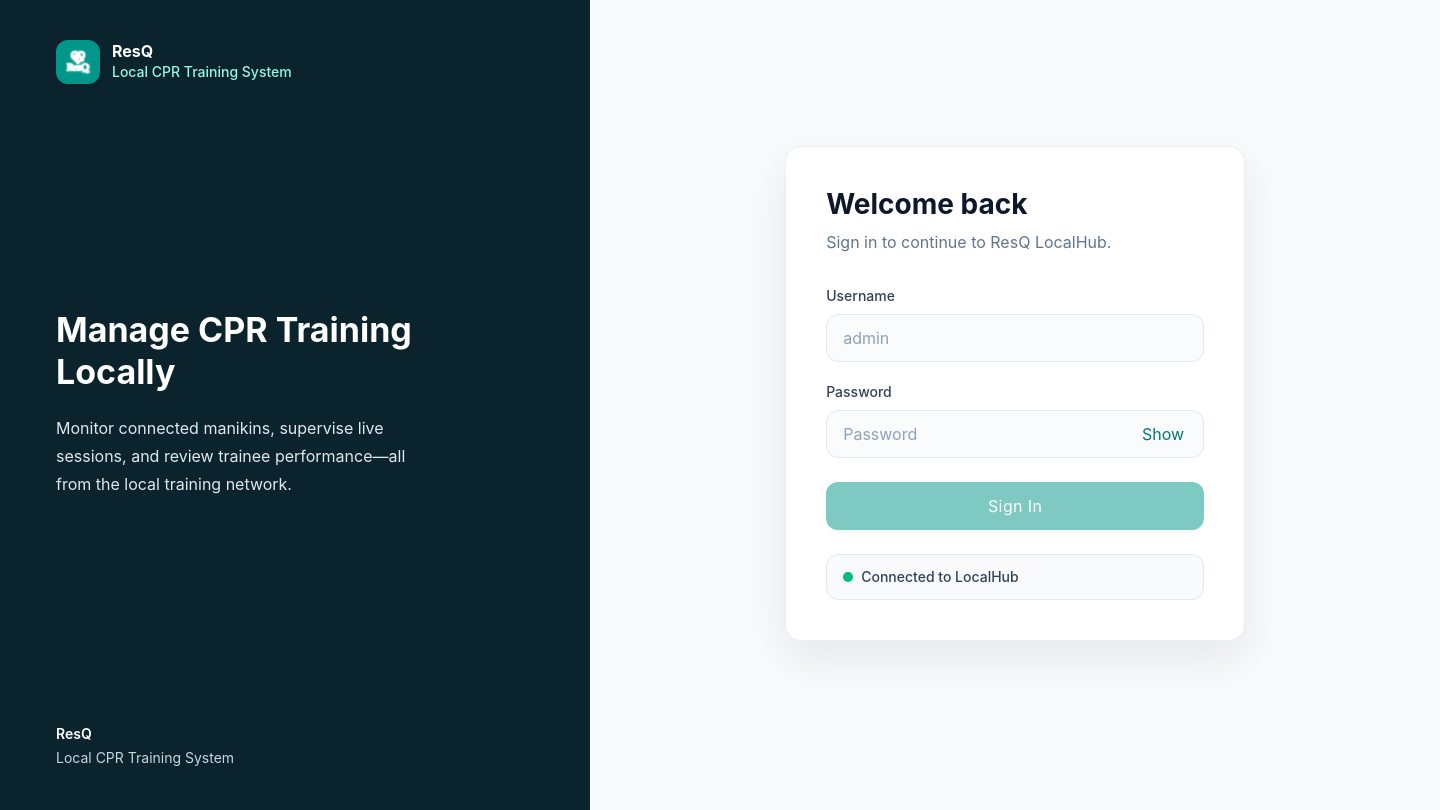
Test case: V2 LoginPage › shows a Caps Lock warning while the password field is focused
The width and height of the screenshot is (1440, 810).
Click the password field labelled "Password": (1015, 434) [826,410,1204,458]
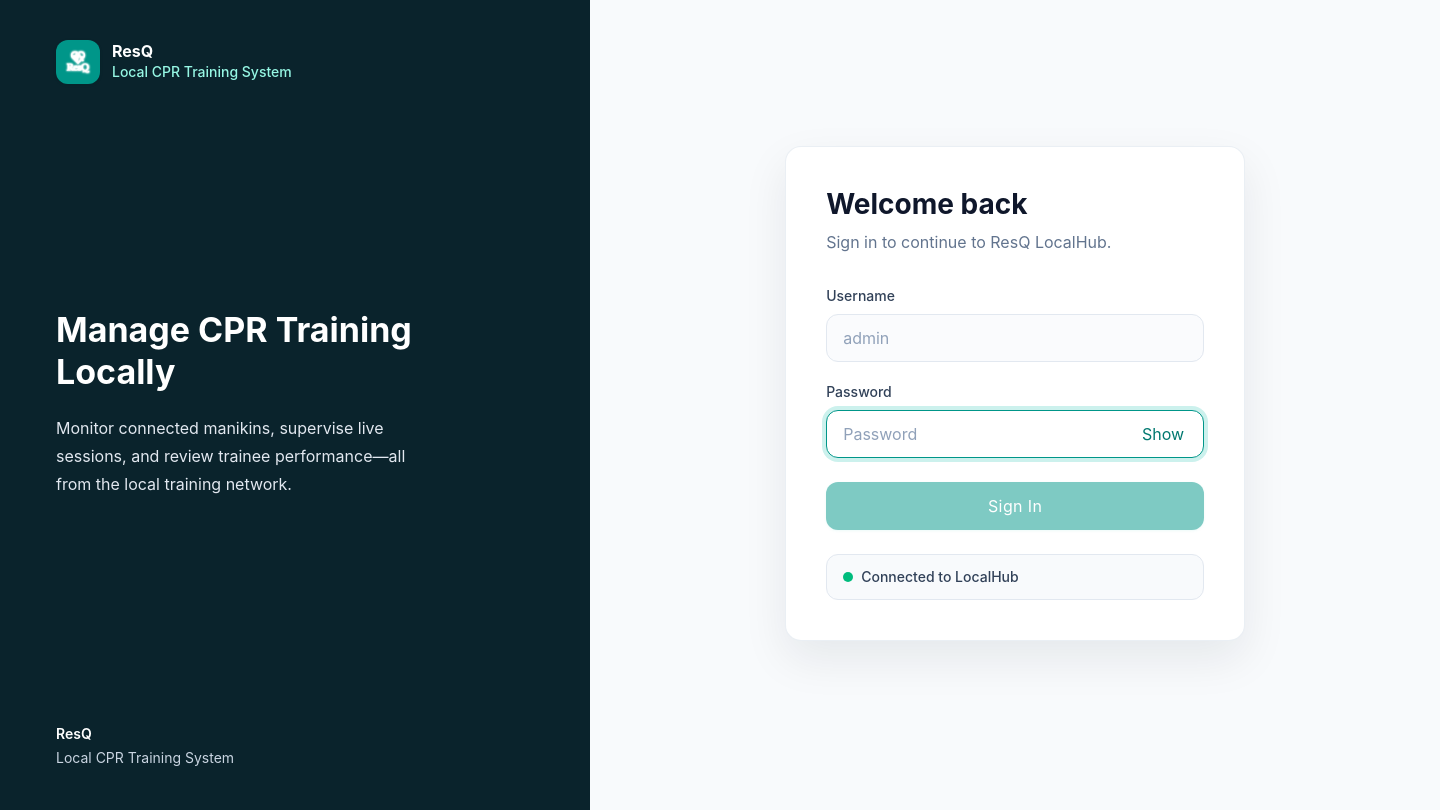
Press A in the password field labelled "Password", box [826,410,1204,458]
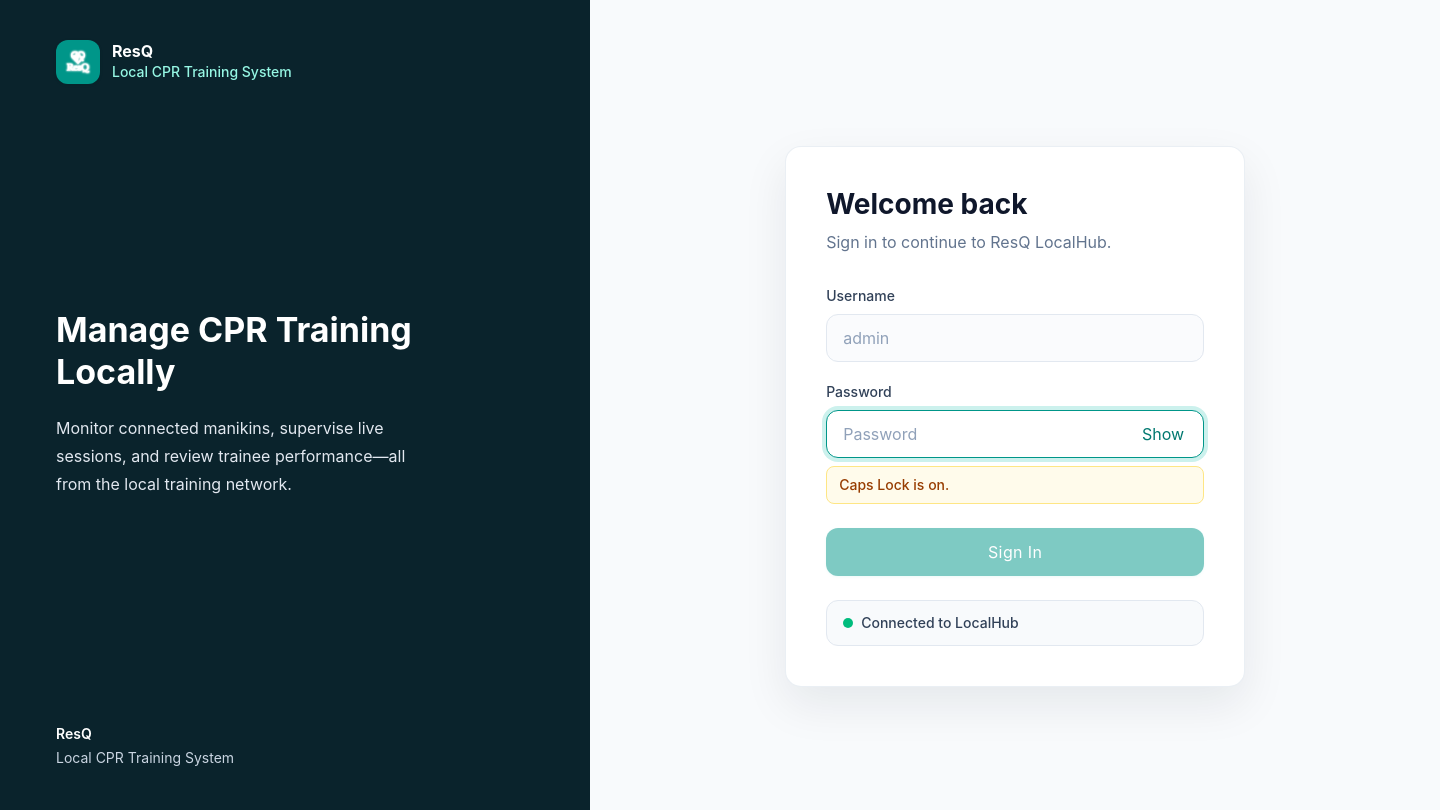
Result: the text "Caps Lock is on." is shown at [826,466,1204,504]
